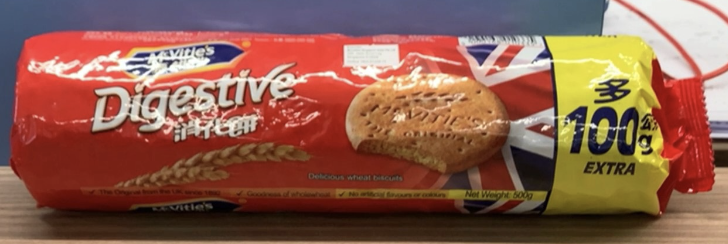cookies_500g-599g: (58, 41, 664, 198)
